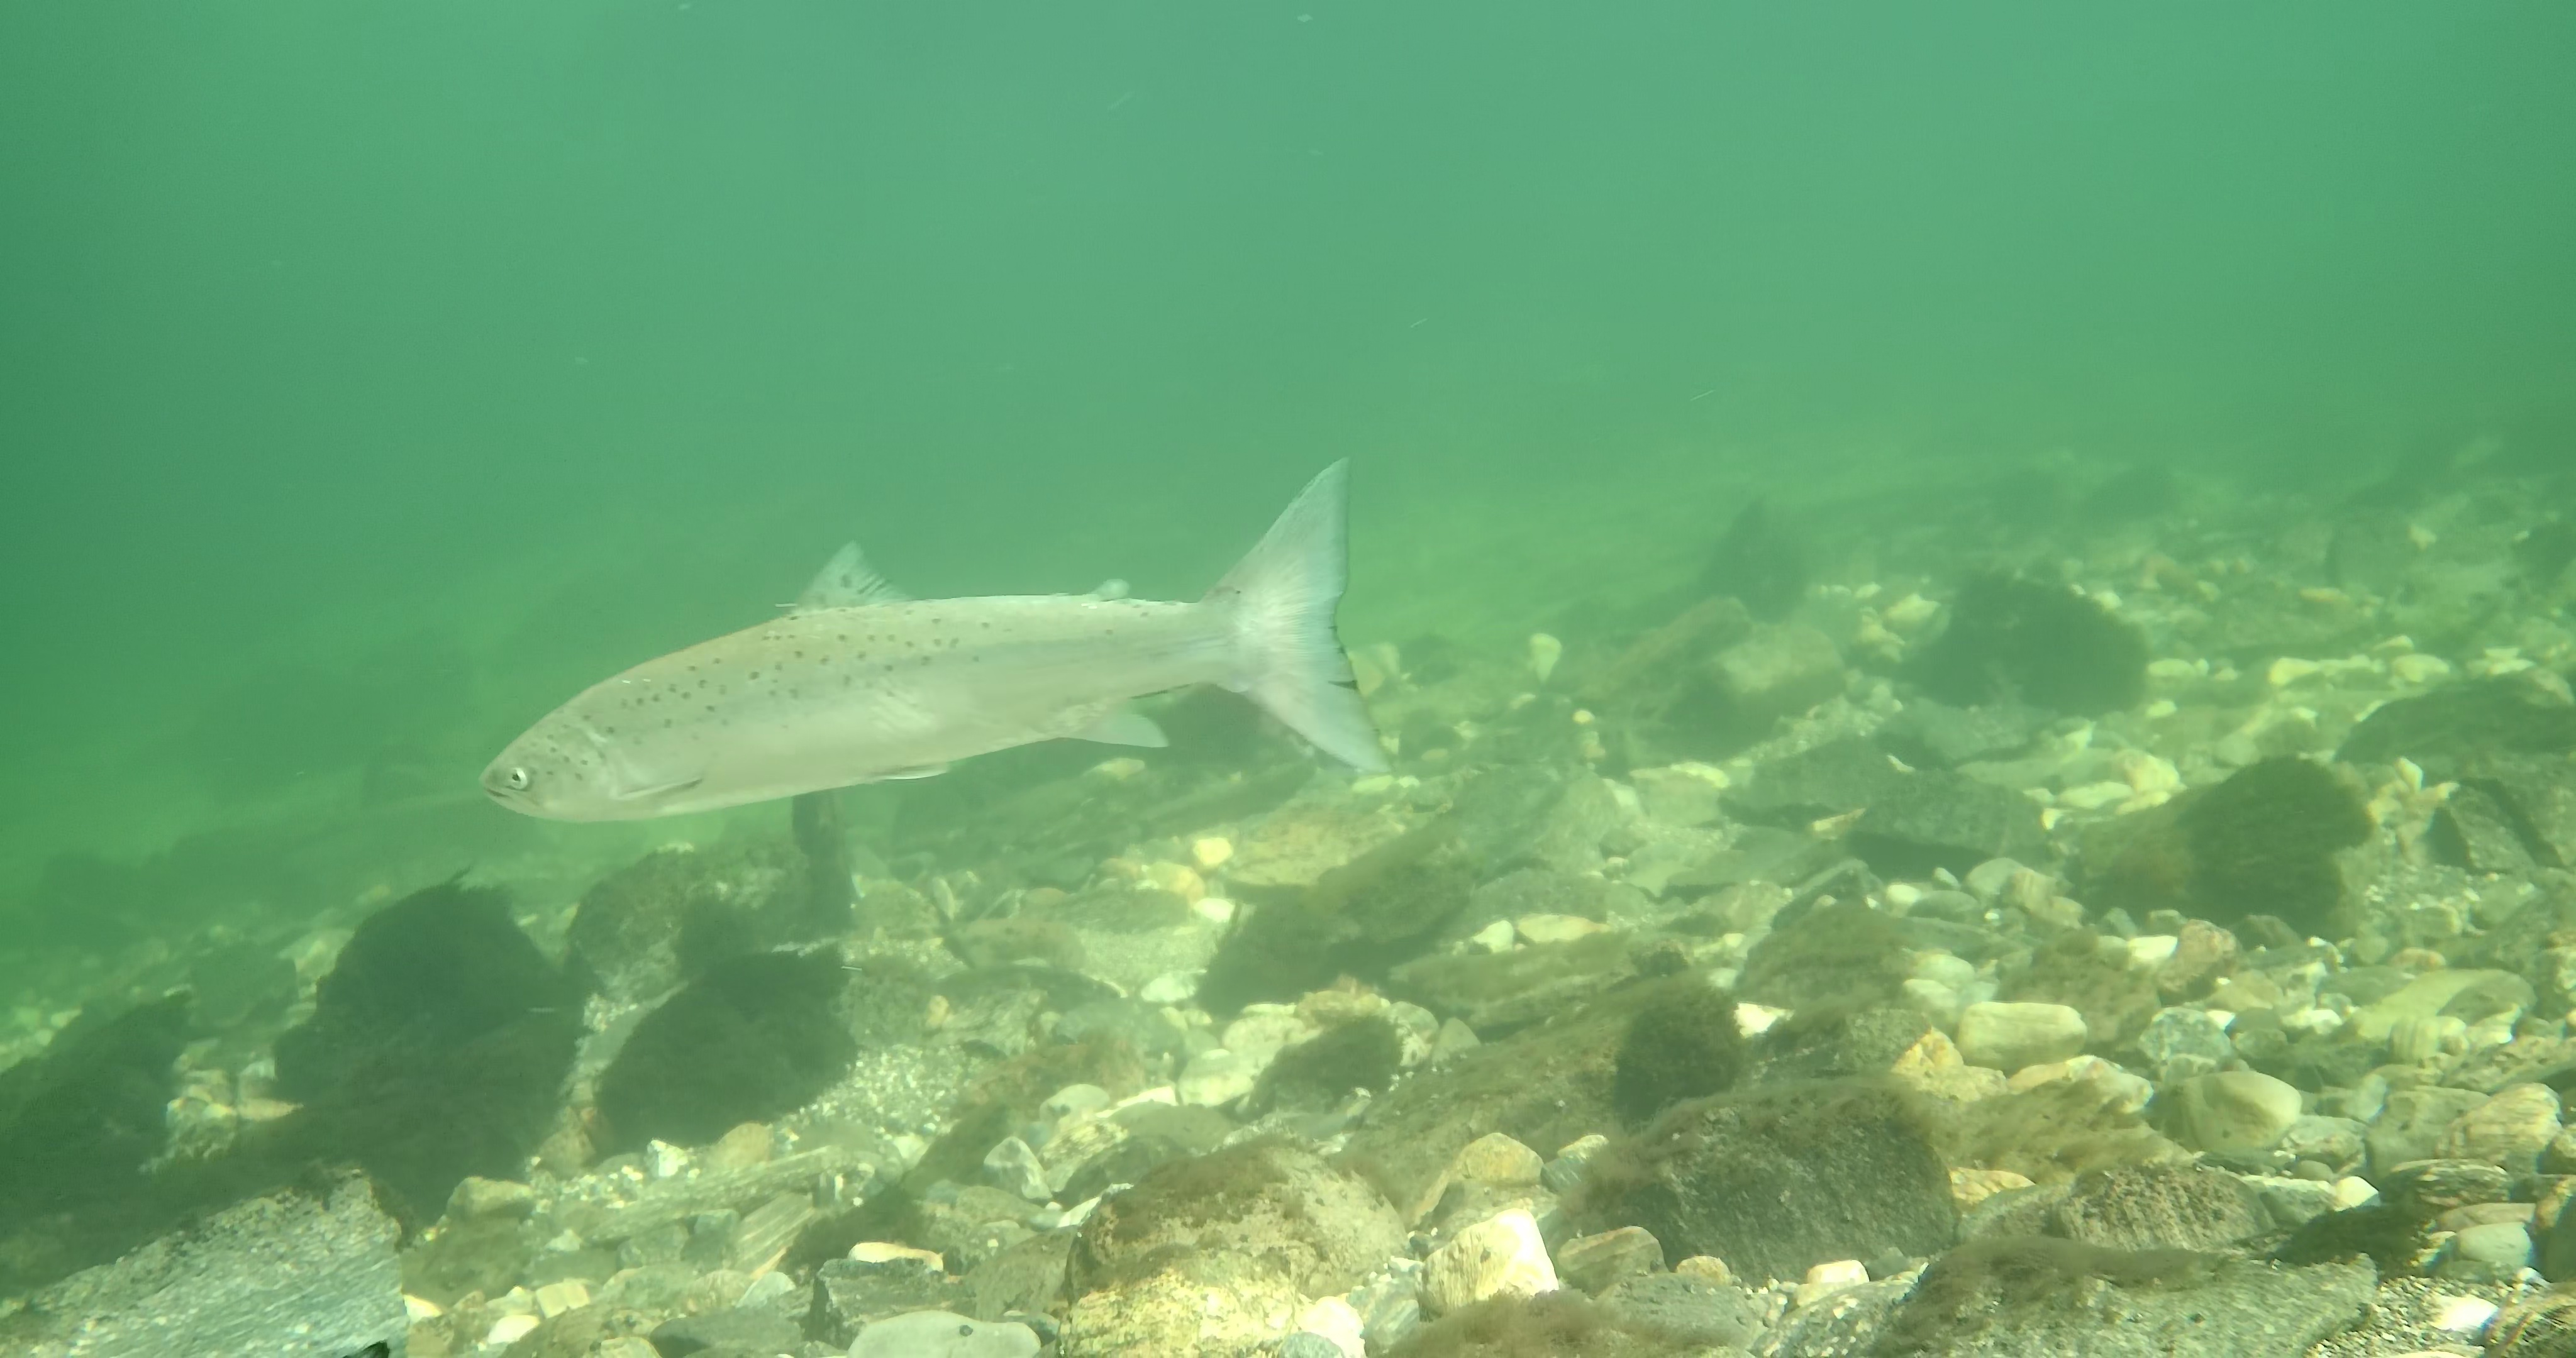salmon: (475, 455, 1394, 825)
